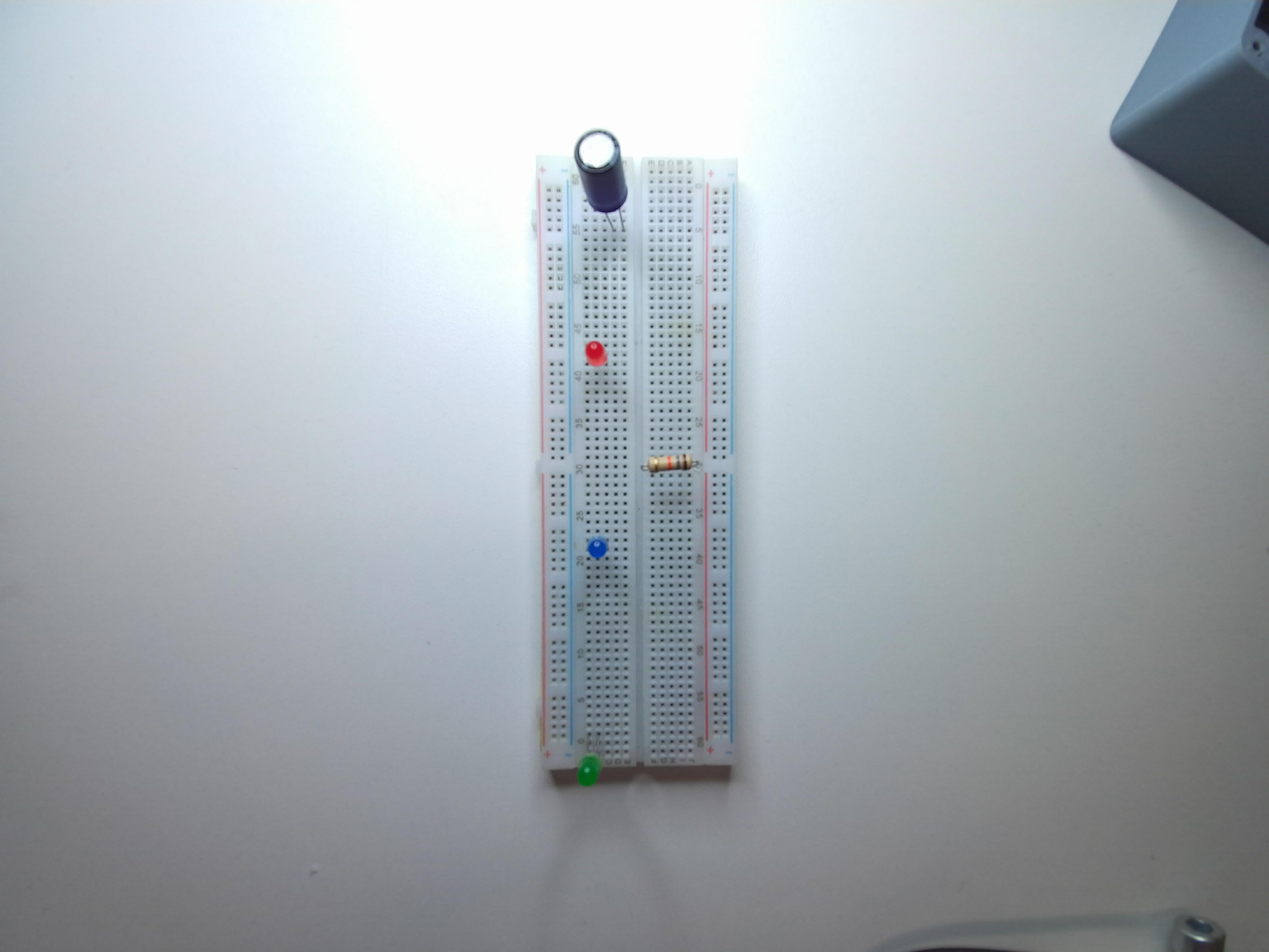base: (529, 129, 753, 796)
blue-led: (581, 532, 613, 561)
capacitor: (572, 124, 629, 217)
green-led: (570, 750, 602, 790)
red-led: (582, 337, 608, 369)
resistor-big: (644, 451, 691, 479)
